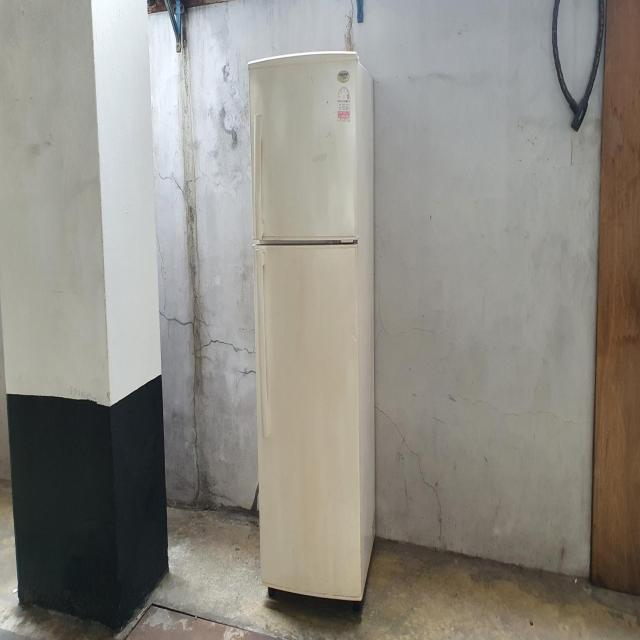refrigerator: (245, 48, 378, 609)
